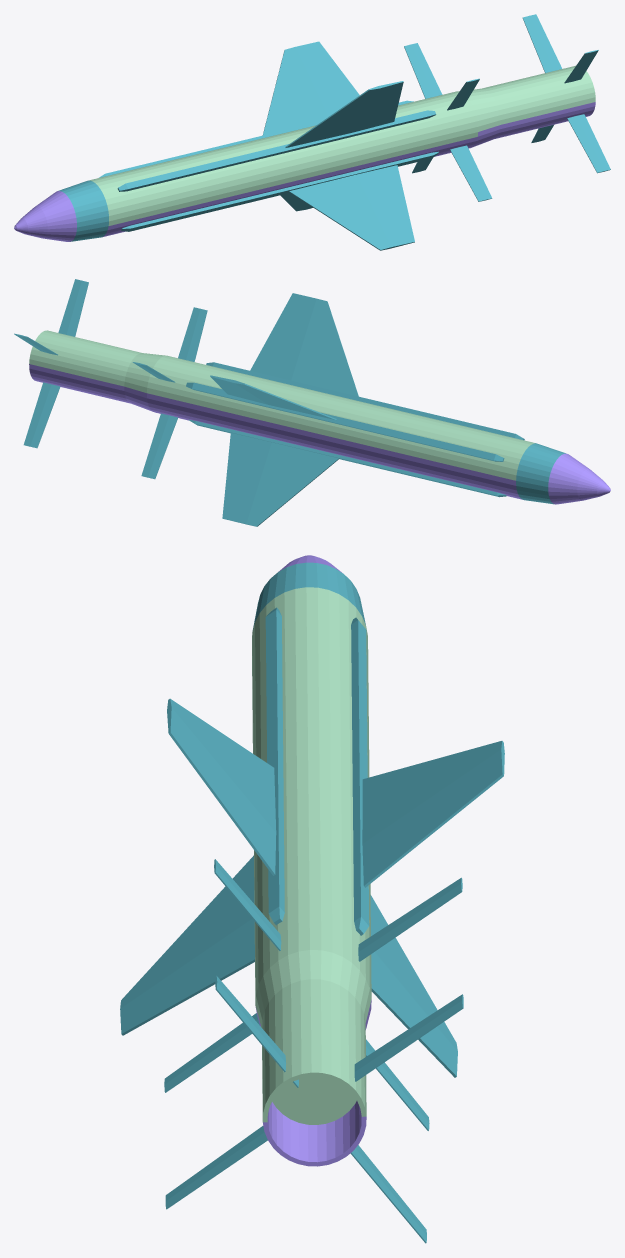
File: Missile.fbx
3 views of the same model, one above another, from view 1: azimuth 30°, elevation 25°; view 2: azimuth 150°, elevation 25°; view 3: azimuth 270°, elevation 25° (orthographic). The views are drawn at different scales.
Parts seen in each view (by area): view 1: Cylinder.001; view 2: Cylinder.001; view 3: Cylinder.001.
Part boxes in pixels (x1=…): Cylinder.001: x1=14, y1=14, x2=610, y2=250; Cylinder.001: x1=14, y1=279, x2=610, y2=526; Cylinder.001: x1=120, y1=555, x2=504, y2=1243.
Bounding box in the file's own units: 2136 × 627 × 627.
